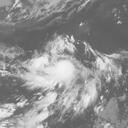cyclone: (24, 36, 101, 106)
